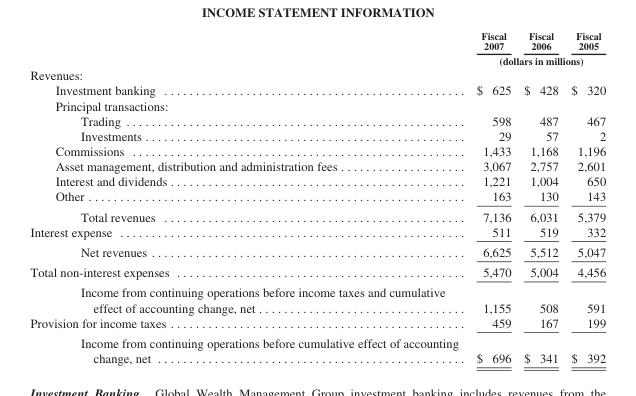table: (29, 29, 605, 364)
table column: (29, 29, 466, 364), (466, 29, 516, 364), (516, 29, 564, 364), (564, 29, 605, 364)
table column header: (29, 29, 605, 67)
table projected row header: (29, 67, 605, 82), (29, 97, 605, 112)
table row: (29, 282, 605, 314), (29, 332, 605, 364), (29, 29, 605, 52), (29, 261, 605, 282), (29, 241, 605, 261), (29, 188, 605, 206), (29, 223, 605, 241), (29, 314, 605, 332), (29, 206, 605, 223), (29, 127, 605, 143), (29, 52, 605, 67), (29, 67, 605, 82), (29, 82, 605, 97), (29, 97, 605, 112), (29, 112, 605, 127), (29, 143, 605, 158), (29, 158, 605, 173), (29, 173, 605, 188)
table spanning cell: (466, 52, 605, 67)
